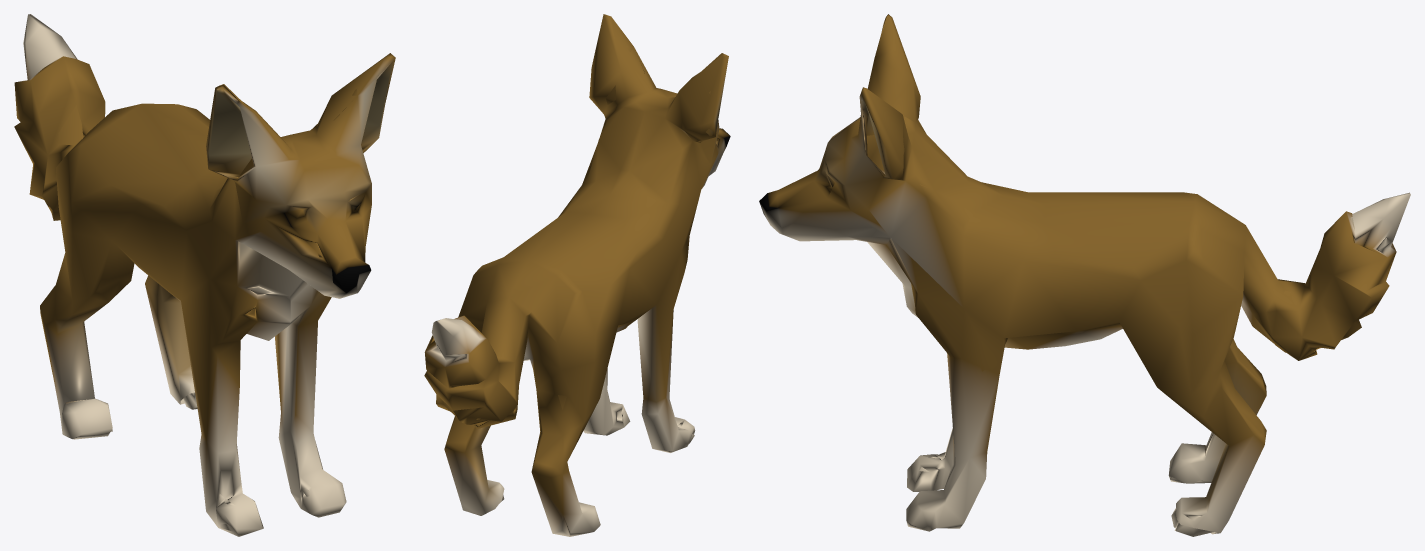
File: gen3d-dingo-lod1.glb
3 views of the same model, side by side, from view 1: azimuth 30°, elevation 25°; view 2: azimuth 150°, elevation 25°; view 3: azimuth 270°, elevation 25° (orthographic). The views are drawn at different scales.
Visible parts, largest first — view 1: part_0; view 2: part_0; view 3: part_0.
Boxes of the visible parts, x1,y1,x2,y2 form: part_0: (14, 14, 395, 536); part_0: (424, 14, 730, 536); part_0: (759, 14, 1410, 536).
Bounding box in the file's own units: 0.3752 × 0.996 × 1.3.
